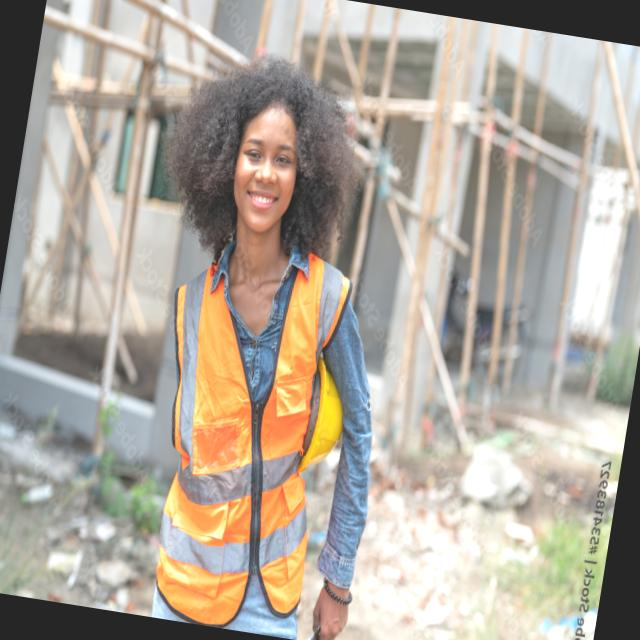helmet: (297, 356, 349, 478)
no-goggles: (231, 128, 308, 184)
no-helmet: (181, 39, 362, 172)
vest: (132, 235, 346, 616)
